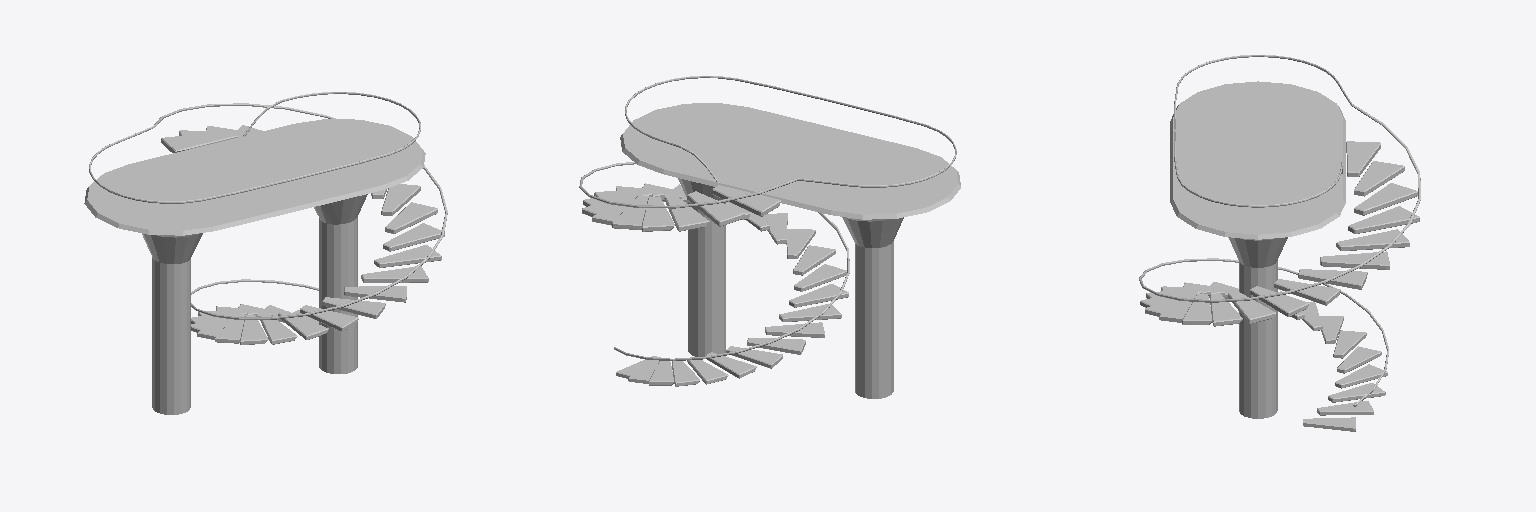
Rendered from Balcony_Stairs (1).obj.
The picture shows the model from 3 angles: view 1: azimuth 30°, elevation 25°; view 2: azimuth 150°, elevation 25°; view 3: azimuth 270°, elevation 25°; orthographic projection.
Parts seen in each view (by area): view 1: Cylinder.016, Circle.001, Circle.002, Cylinder.017; view 2: Cylinder.016, Circle.001, Circle.002, Cylinder.017; view 3: Cylinder.016, Circle.001, Circle.002, Cylinder.017.
Part boxes in pixels (left/top/right/bottom): Cylinder.016: left=84, top=119, right=425, bottom=414; Circle.001: left=161, top=125, right=444, bottom=344; Circle.002: left=154, top=103, right=447, bottom=319; Cylinder.017: left=89, top=92, right=420, bottom=203; Cylinder.016: left=620, top=103, right=960, bottom=398; Circle.001: left=582, top=183, right=848, bottom=386; Circle.002: left=579, top=162, right=849, bottom=360; Cylinder.017: left=625, top=76, right=956, bottom=187; Cylinder.016: left=1170, top=81, right=1345, bottom=418; Circle.001: left=1140, top=141, right=1419, bottom=431; Circle.002: left=1139, top=104, right=1420, bottom=406; Cylinder.017: left=1174, top=55, right=1351, bottom=207.
Bounding box in the file's own units: 18.51 × 12.41 × 13.22.